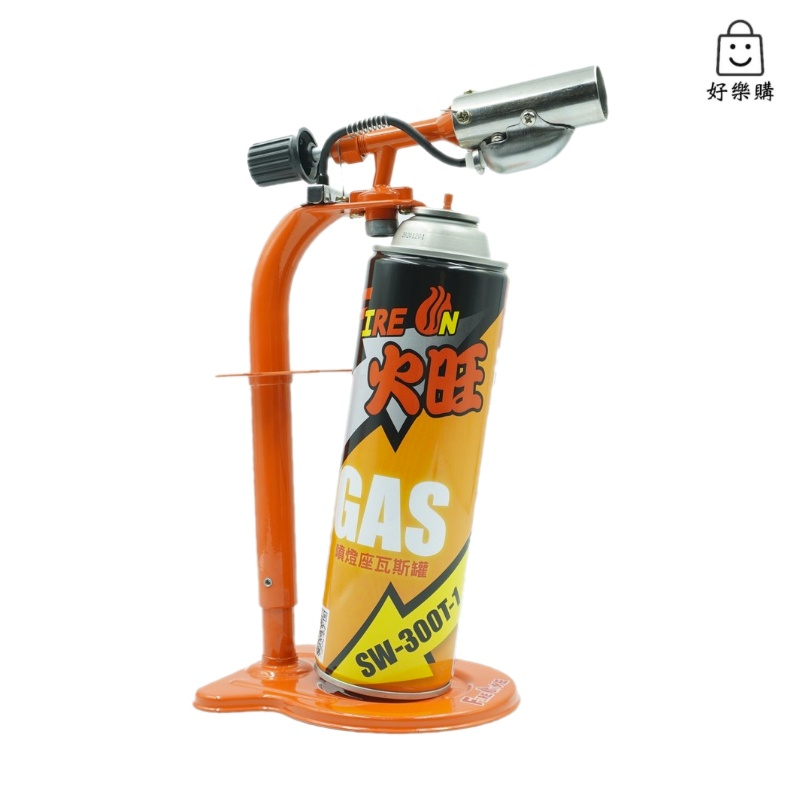gastorch: (192, 64, 619, 740)
